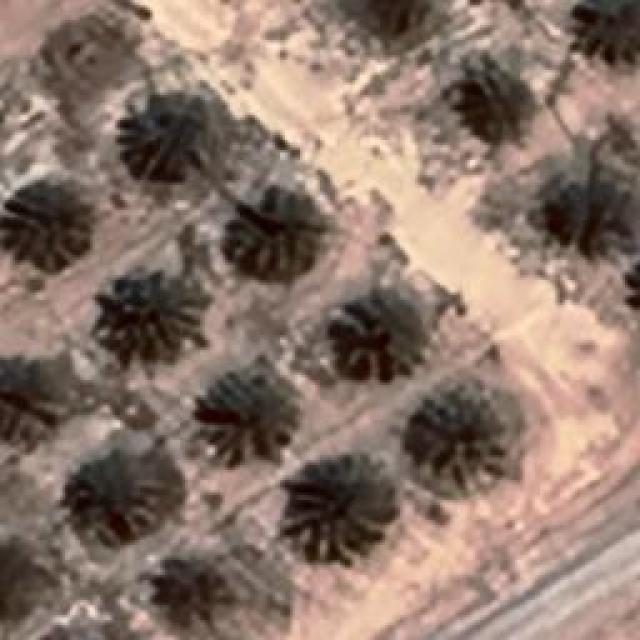PalmTree: (278, 450, 392, 565), (92, 268, 208, 370), (530, 156, 635, 262), (192, 365, 302, 465), (62, 440, 168, 542), (400, 390, 502, 495), (442, 48, 538, 152), (332, 282, 432, 380), (118, 90, 225, 180), (225, 185, 325, 278), (144, 554, 244, 632), (2, 185, 90, 270), (2, 352, 76, 440), (330, 0, 445, 52), (0, 534, 50, 627), (572, 0, 637, 62)
